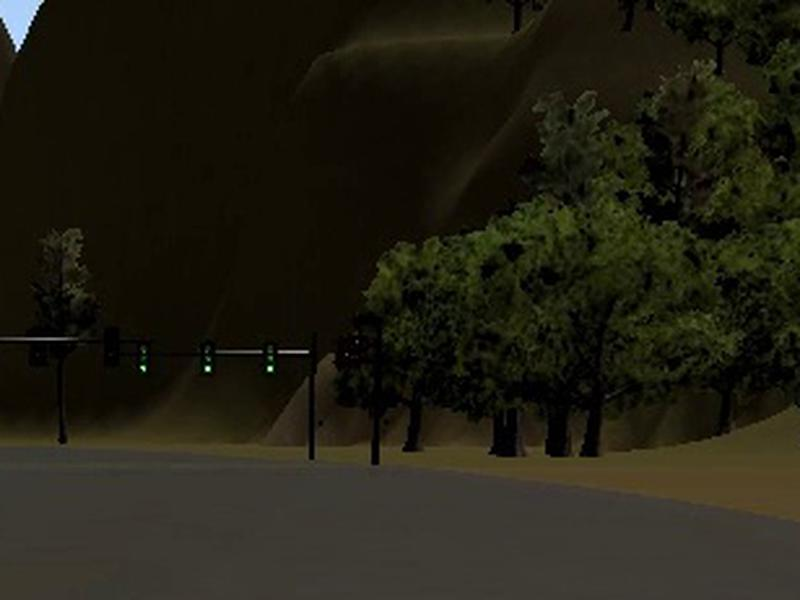Green: (201, 342, 214, 377), (136, 343, 150, 375), (264, 341, 277, 375)
